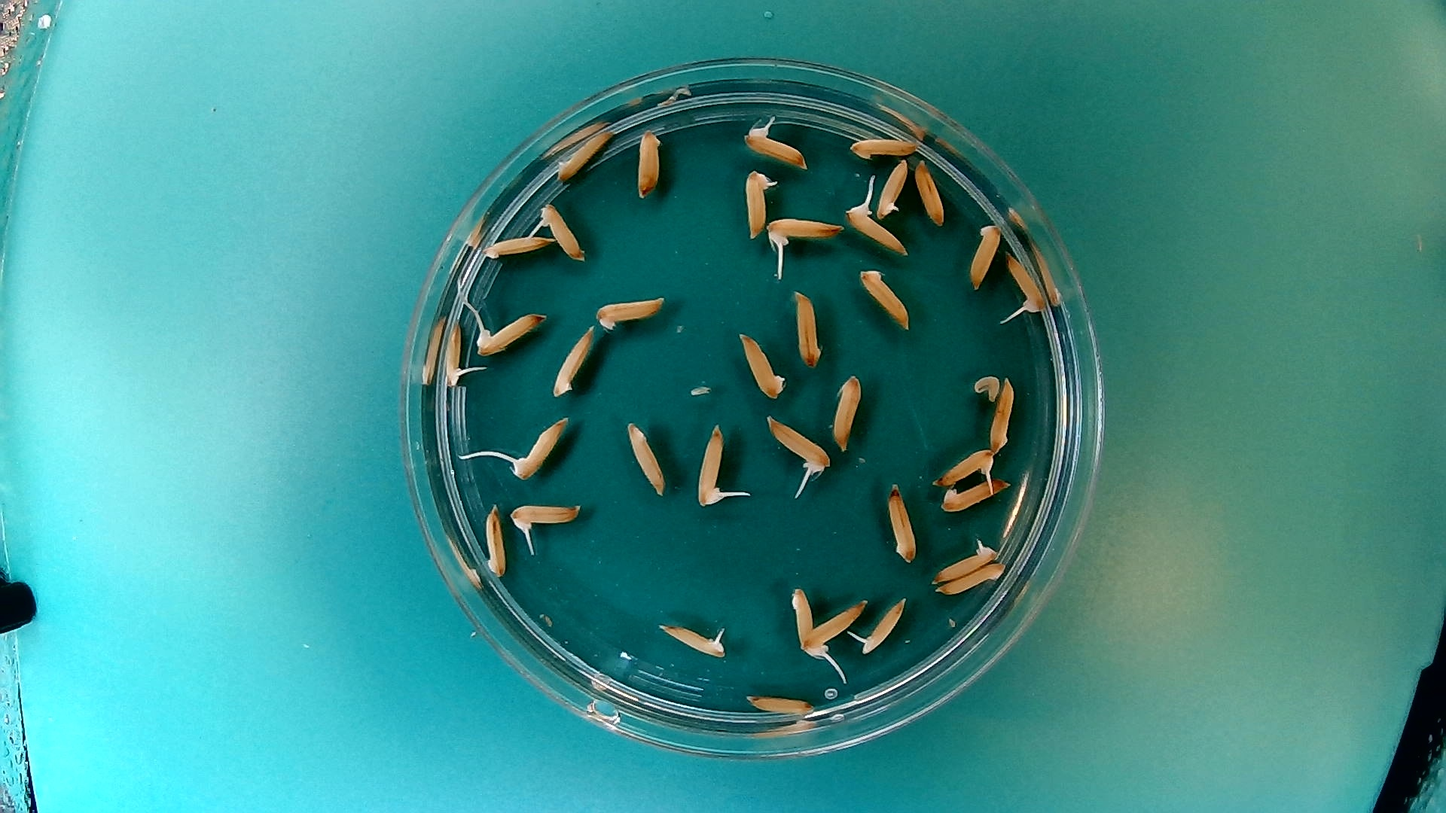no: (856, 267, 914, 336), (737, 326, 789, 402), (624, 419, 669, 502), (548, 322, 597, 398), (555, 122, 616, 181), (593, 289, 669, 332), (936, 473, 1015, 514), (884, 480, 919, 565), (828, 370, 864, 452), (932, 560, 1008, 598), (792, 287, 825, 370), (480, 224, 555, 260), (967, 220, 1005, 289), (912, 155, 947, 228), (846, 129, 925, 160), (743, 689, 818, 721), (480, 501, 508, 579), (635, 123, 664, 198), (988, 373, 1015, 452), (790, 580, 818, 655)
yes: (762, 413, 831, 484), (505, 414, 569, 483), (471, 303, 550, 358), (843, 199, 910, 256), (801, 601, 868, 656), (741, 116, 810, 169), (931, 536, 1002, 587), (762, 212, 846, 253), (856, 595, 911, 656), (536, 199, 587, 262), (506, 498, 587, 537), (1003, 249, 1048, 318), (654, 618, 728, 659), (694, 419, 727, 507), (934, 443, 998, 487), (742, 165, 777, 241), (439, 313, 473, 391), (873, 157, 910, 221)
